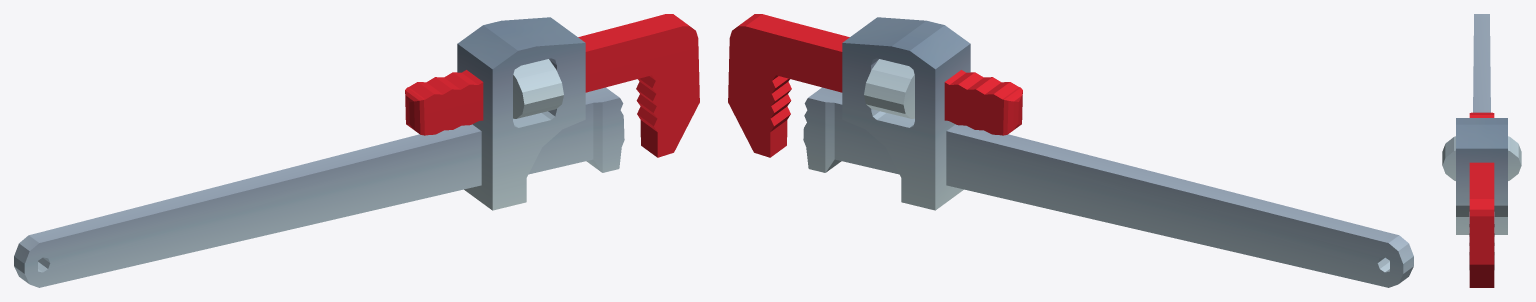
The model's file is weapon_38.FBX.
3 renders of one model, left to right at view 1: azimuth 30°, elevation 25°; view 2: azimuth 150°, elevation 25°; view 3: azimuth 270°, elevation 25°, orthographic. The views are drawn at different scales.
Parts seen in each view (by area): view 1: weapon_38; view 2: weapon_38; view 3: weapon_38.
Part boxes in pixels (left/top/right/bottom): weapon_38: left=14, top=14, right=699, bottom=287; weapon_38: left=728, top=14, right=1413, bottom=287; weapon_38: left=1442, top=14, right=1521, bottom=287.
Bounding box in the file's own units: 88.53 × 19.33 × 12.17.
Materials: 1 (1 with a texture image).
